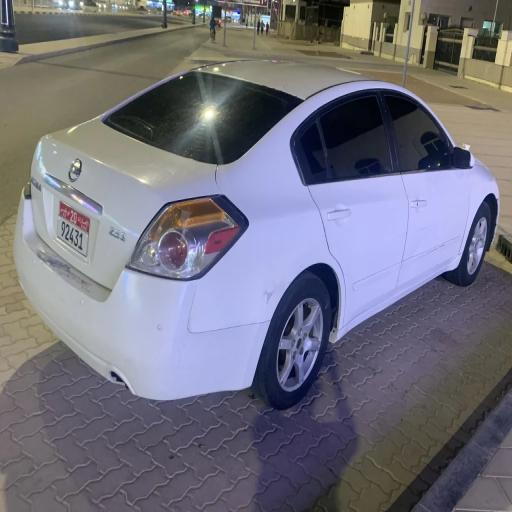license-plates: (57, 200, 90, 258)
